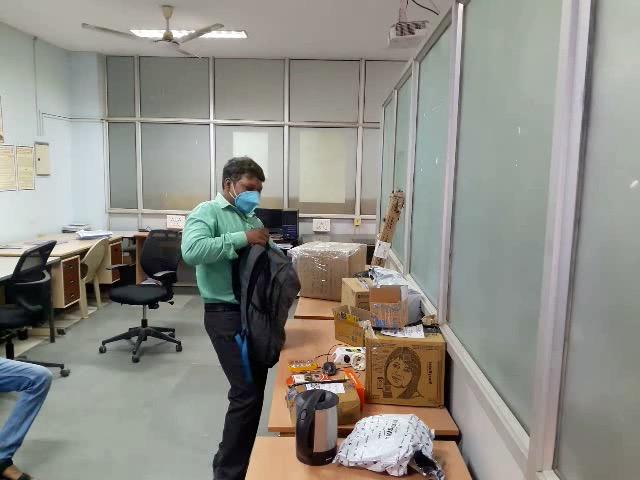shoplifting: (162, 213, 381, 376)
